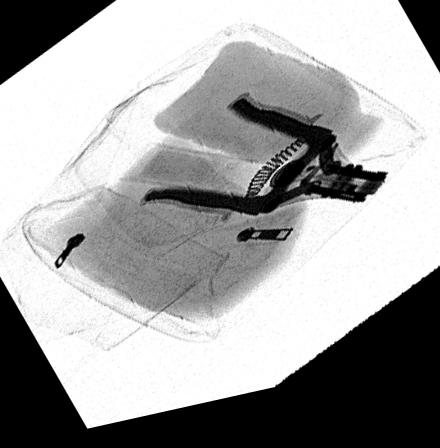Pliers: (136, 100, 395, 229)
